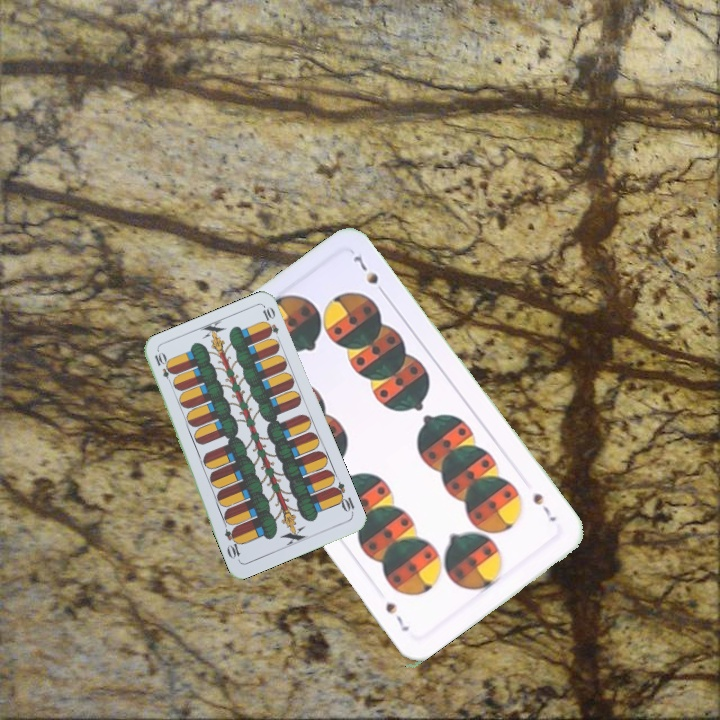E10: (328, 478, 357, 517), (150, 348, 176, 388)
S7: (529, 489, 560, 524)
